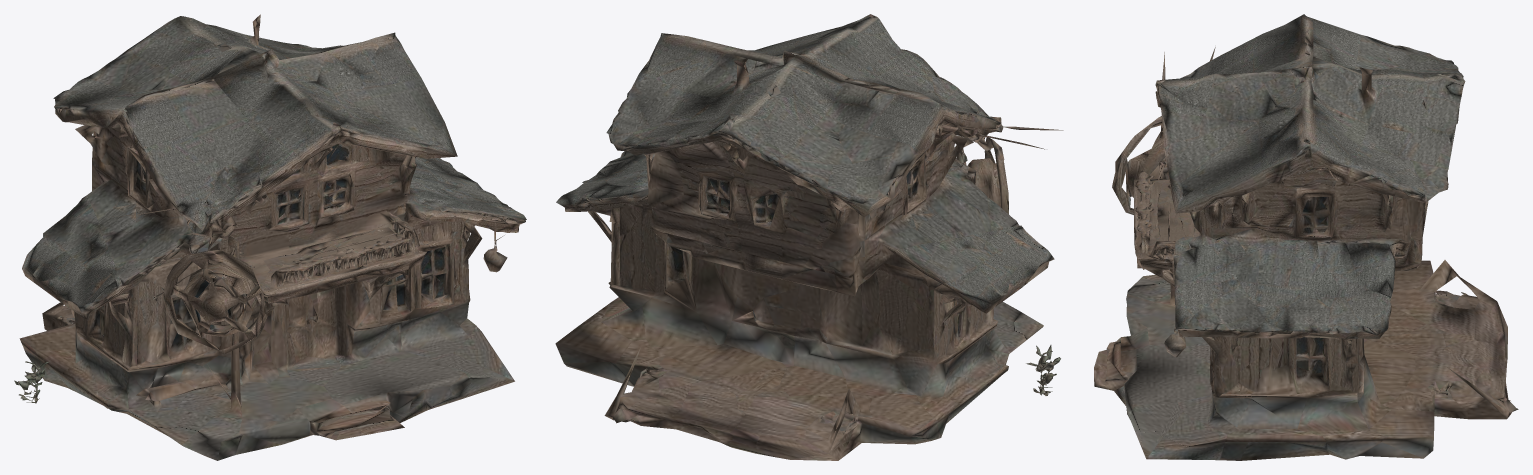
Rendered from links_cable_car_station.45792d70.glb.
3 renders of one model, left to right at view 1: azimuth 30°, elevation 25°; view 2: azimuth 150°, elevation 25°; view 3: azimuth 270°, elevation 25°, orthographic.
Size of the model in its own units: 1.8 by 1.22 by 1.47.
Materials: 1 (1 with a texture image).
